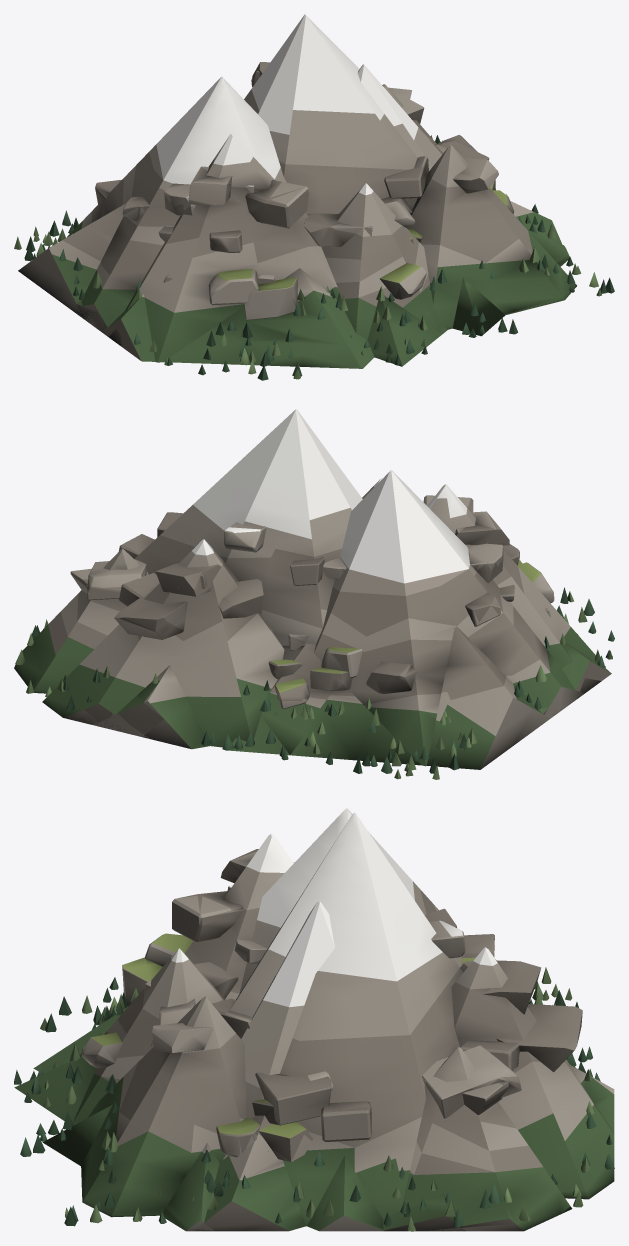
Rendered from nature-8f7cb9f5.glb.
3 renders of one model, top to bottom at view 1: azimuth 30°, elevation 25°; view 2: azimuth 150°, elevation 25°; view 3: azimuth 270°, elevation 25°, orthographic. The views are drawn at different scales.
Visible parts, largest first — view 1: mountain_a-rock, mountain_b-rock, mountain_a-forest, mountain_b-forest; view 2: mountain_a-rock, mountain_b-rock, mountain_a-forest, mountain_b-forest; view 3: mountain_a-rock, mountain_b-rock, mountain_a-forest, mountain_b-forest.
Part boxes in pixels (x1,y1,x2,y2): mountain_a-rock: (50,14,576,368); mountain_b-rock: (18,64,562,366); mountain_a-forest: (42,194,614,380); mountain_b-forest: (14,135,573,365); mountain_a-rock: (42,409,611,749); mountain_b-rock: (14,470,584,769); mountain_a-forest: (58,587,614,773); mountain_b-forest: (15,619,550,779); mountain_a-rock: (33,812,614,1231); mountain_b-rock: (14,808,575,1231); mountain_a-forest: (20,977,614,1231); mountain_b-forest: (14,967,600,1226).
Size of the model in its own units: 2.97 by 1.66 by 2.89.
